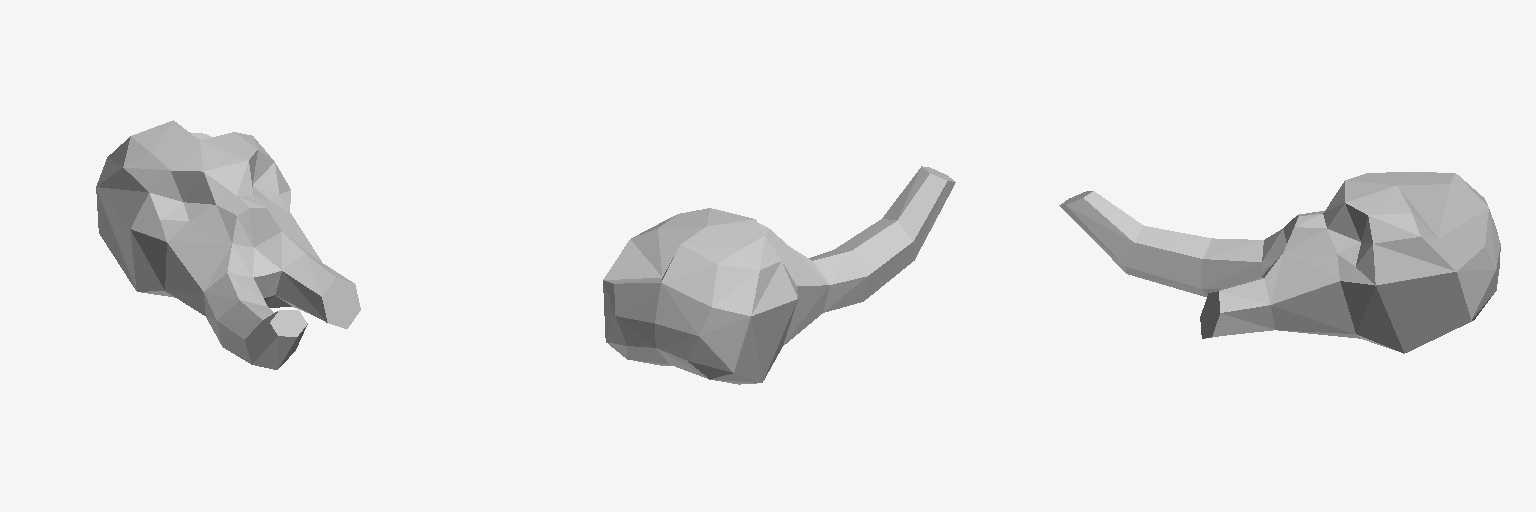
Rendered from Bone_02.obj.
The picture shows the model from 3 angles: view 1: azimuth 30°, elevation 25°; view 2: azimuth 150°, elevation 25°; view 3: azimuth 270°, elevation 25°; orthographic projection.
Visible parts, largest first — view 1: Bone_02; view 2: Bone_02; view 3: Bone_02.
Part boxes in pixels (bbox=[...]): Bone_02: bbox=[96, 120, 360, 369]; Bone_02: bbox=[603, 166, 955, 384]; Bone_02: bbox=[1059, 172, 1500, 353].
Bounding box in the file's own units: 55.55 × 46.75 × 128.